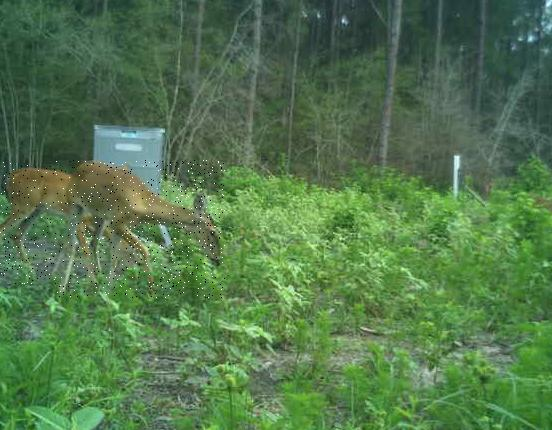Deer: (57, 161, 226, 299), (0, 162, 98, 284)
